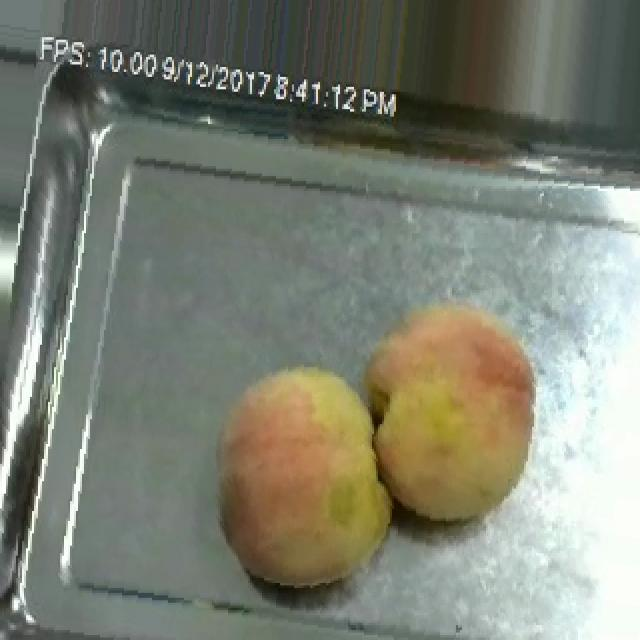Fruit: (198, 348, 412, 600), (356, 286, 548, 538)
